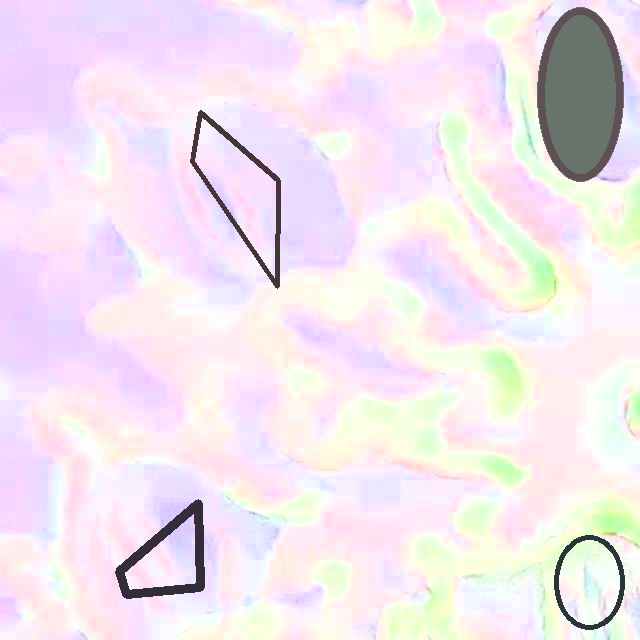close: (191, 111, 280, 288), (115, 499, 204, 598)
open: (537, 7, 623, 182), (553, 535, 626, 629)
